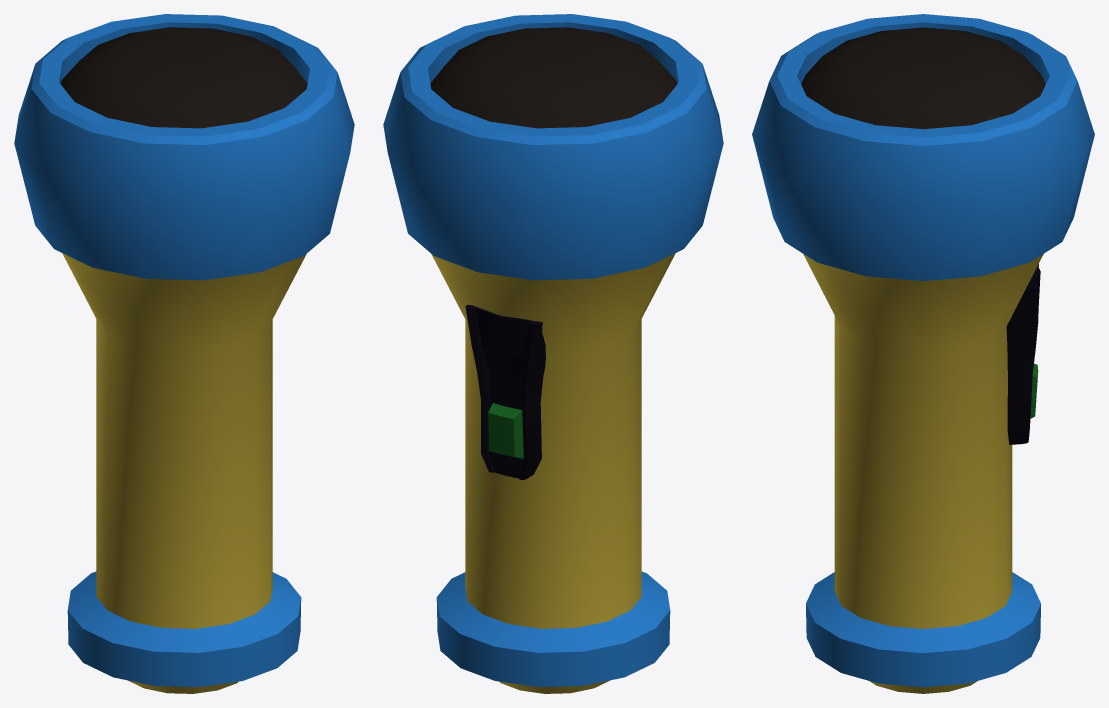
Rendered from Flashlight-1.FBX.
3 renders of one model, left to right at view 1: azimuth 30°, elevation 25°; view 2: azimuth 150°, elevation 25°; view 3: azimuth 270°, elevation 25°, orthographic.
Parts seen in each view (by area): view 1: Flashlight-1; view 2: Flashlight-1; view 3: Flashlight-1.
Boxes of the visible parts, box(x1,y1,x2,y2) form: Flashlight-1: box(14, 14, 354, 693); Flashlight-1: box(383, 14, 723, 693); Flashlight-1: box(752, 14, 1094, 693).
Bounding box in the file's own units: 571 × 571 × 1132.
